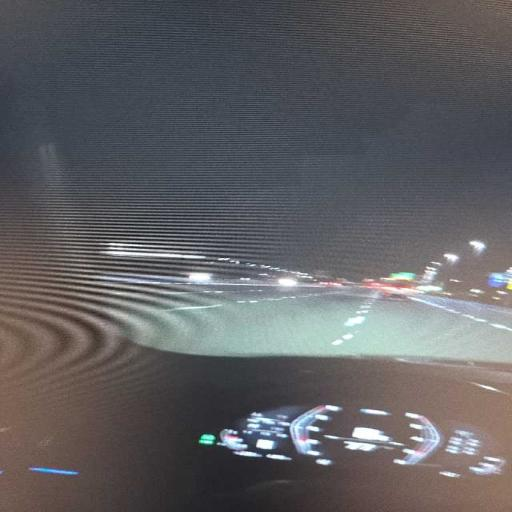lane: (152, 287, 511, 360)
